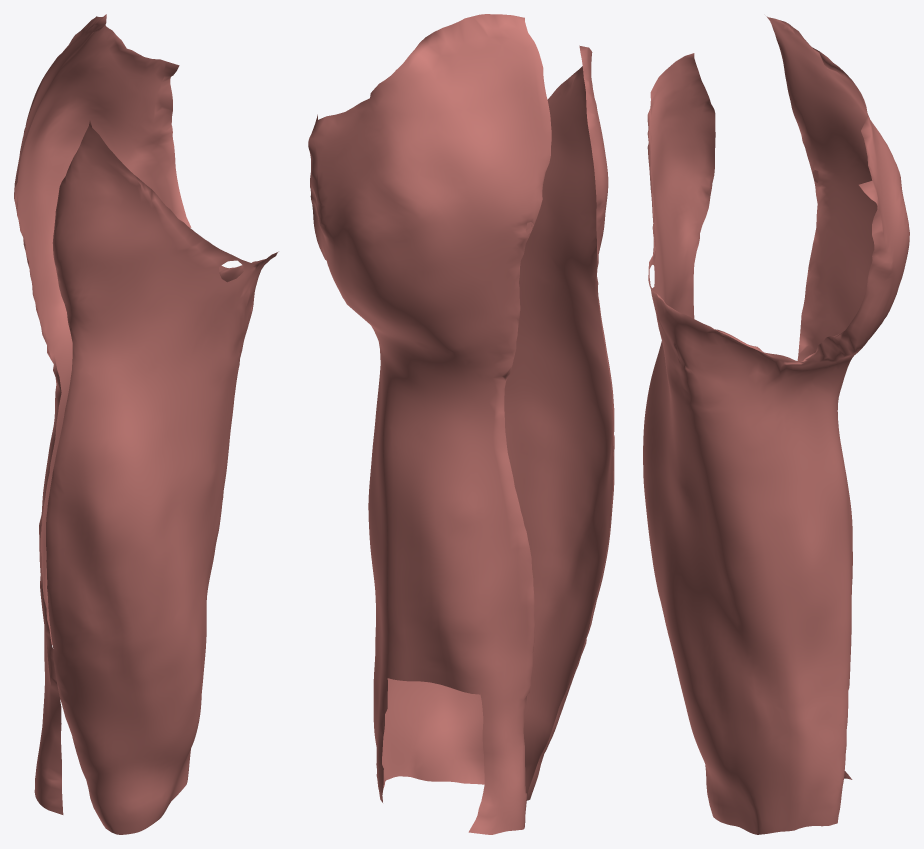
3 renders of one model, left to right at view 1: azimuth 30°, elevation 25°; view 2: azimuth 150°, elevation 25°; view 3: azimuth 270°, elevation 25°, orthographic. The views are drawn at different scales.
Parts seen in each view (by area): view 1: ZA_2f35cff7dd3c09dc; view 2: ZA_2f35cff7dd3c09dc; view 3: ZA_2f35cff7dd3c09dc.
Boxes of the visible parts, x1=… form: ZA_2f35cff7dd3c09dc: x1=14, y1=14, x2=278, y2=834; ZA_2f35cff7dd3c09dc: x1=308, y1=14, x2=614, y2=834; ZA_2f35cff7dd3c09dc: x1=643, y1=16, x2=909, y2=834.
Size of the model in its own units: 0.1594 by 0.5699 by 0.1751.
